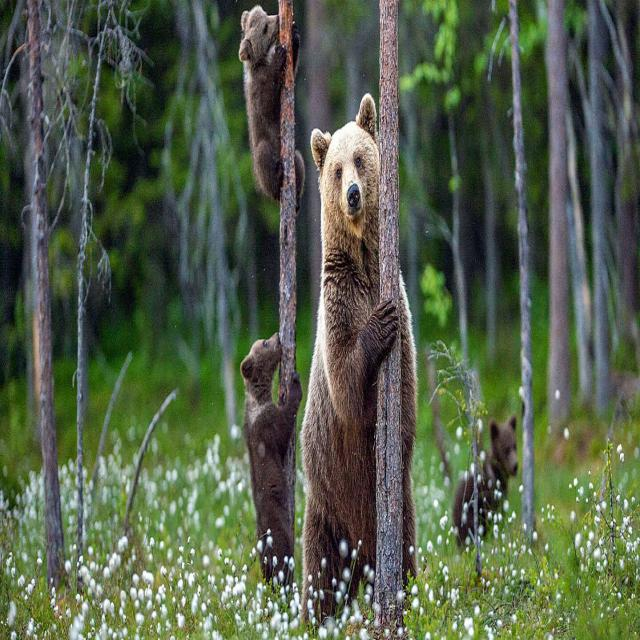Bear: (303, 96, 414, 617), (240, 336, 304, 581), (236, 6, 292, 204), (454, 420, 528, 545)
